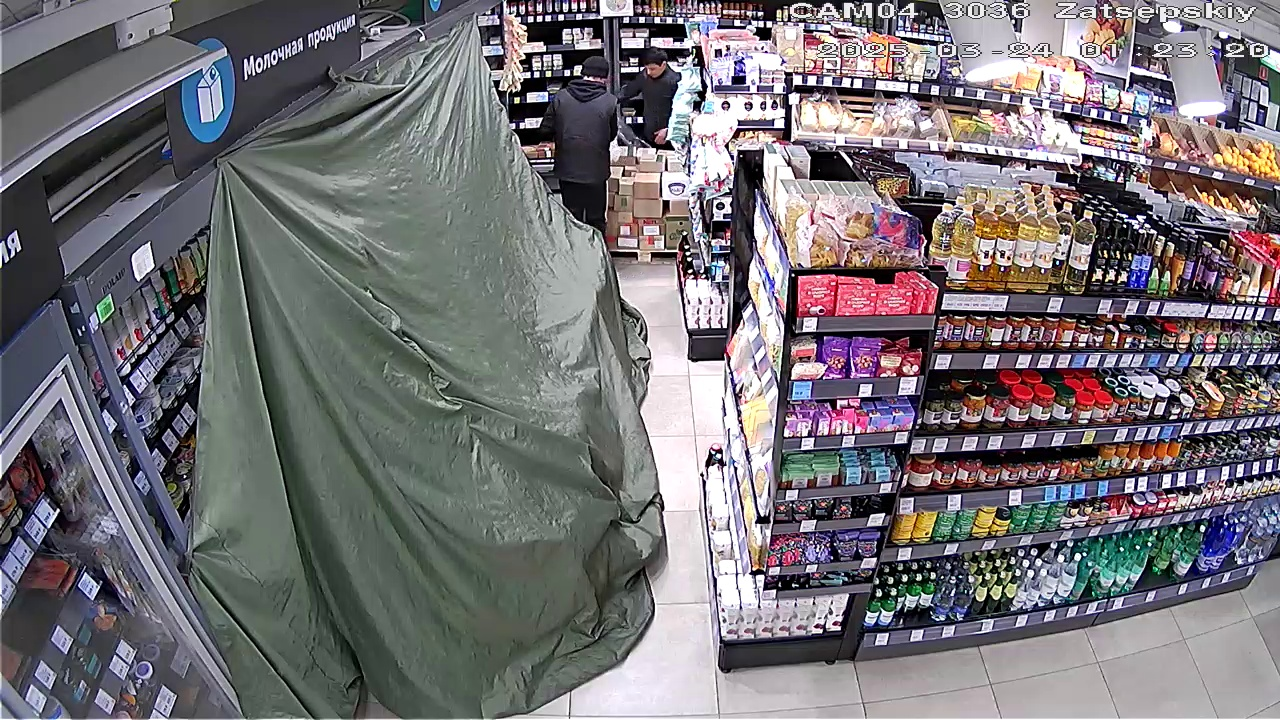Human: (545, 51, 606, 220), (615, 42, 683, 141)
dome: (196, 36, 665, 707)
pallet: (605, 148, 681, 252)
